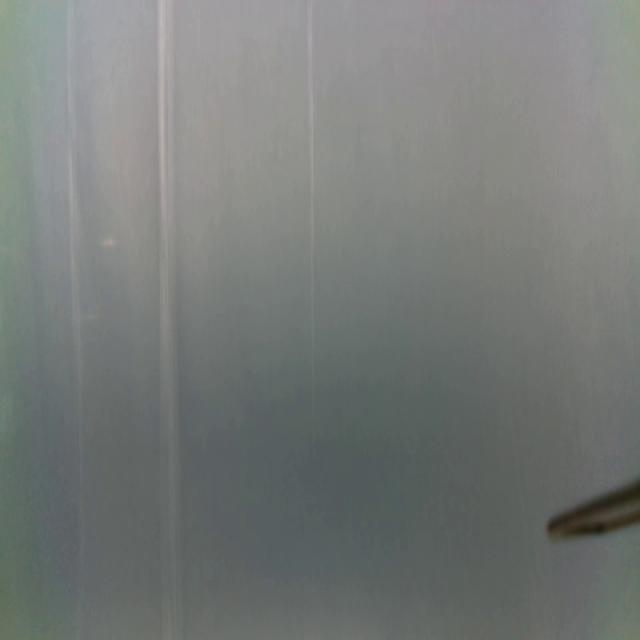crease: (64, 1, 88, 640), (159, 0, 181, 638), (306, 0, 318, 427)
